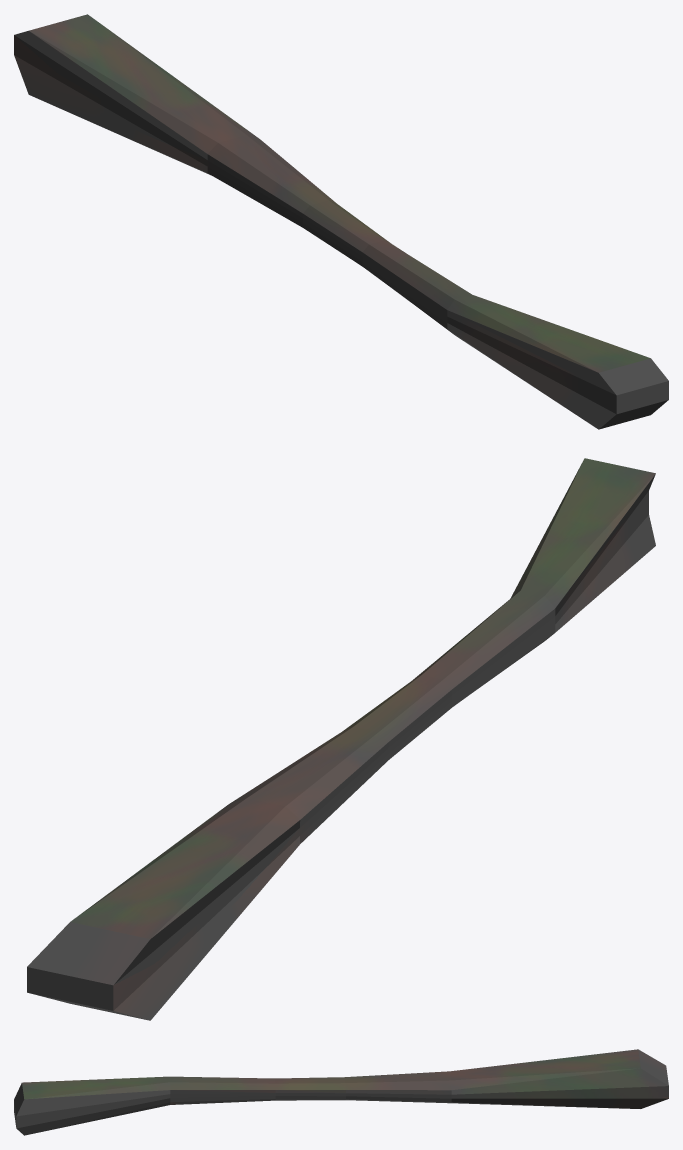
File: kemik.fbx
3 renders of one model, top to bottom at view 1: azimuth 30°, elevation 25°; view 2: azimuth 150°, elevation 25°; view 3: azimuth 270°, elevation 25°, orthographic. The views are drawn at different scales.
Visible parts, largest first — view 1: Cube.097; view 2: Cube.097; view 3: Cube.097.
Boxes of the visible parts, x1,y1,x2,y2 form: Cube.097: [14, 14, 668, 429]; Cube.097: [27, 458, 655, 1020]; Cube.097: [14, 1049, 668, 1135].
Size of the model in its own units: 94.85 by 39.46 by 552.
1 material, 1 textured.
